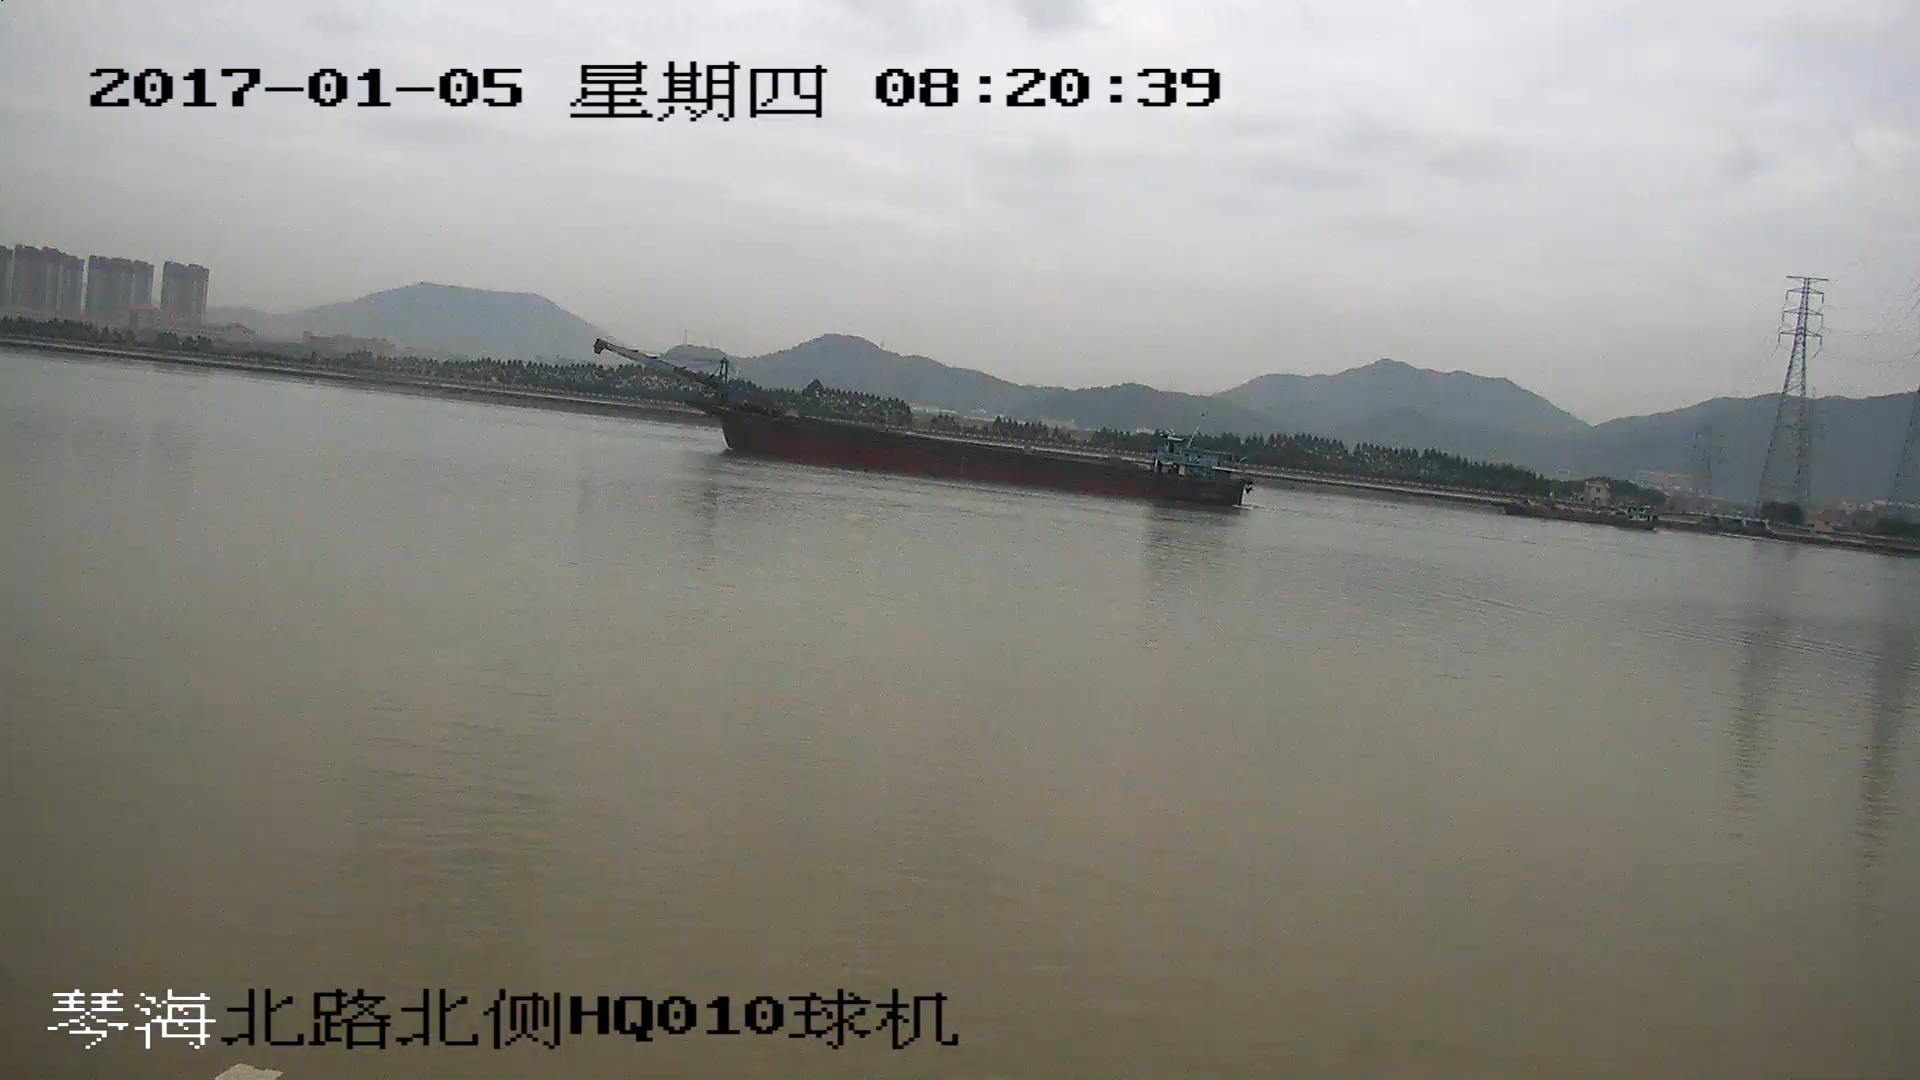bulk cargo carrier: (594, 343, 1255, 507)
